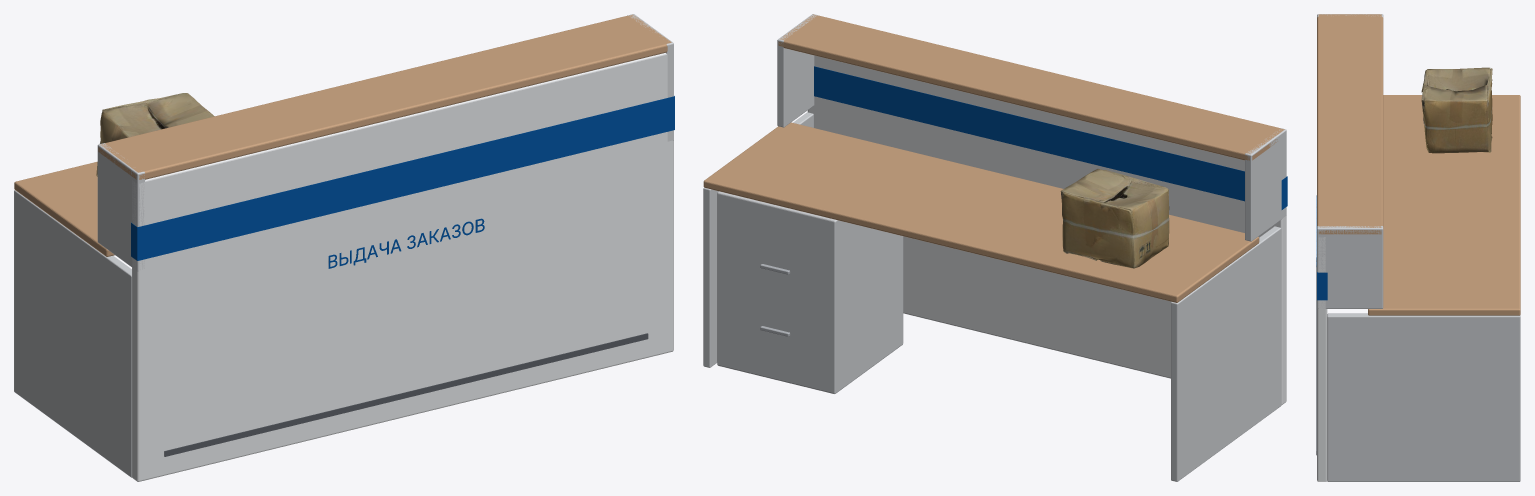
The model's file is pvz-counter.glb.
The picture shows the model from 3 angles, left to right: view 1: azimuth 30°, elevation 25°; view 2: azimuth 150°, elevation 25°; view 3: azimuth 270°, elevation 25°; orthographic projection. The views are drawn at different scales.
Parts seen in each view (by area): view 1: body; view 2: body; view 3: body.
Boxes of the visible parts, x1,y1,x2,y2 form: body: [14, 14, 674, 481]; body: [703, 14, 1287, 481]; body: [1316, 14, 1520, 481].
Bounding box in the file's own units: 2 × 1.1 × 0.803.
7 materials, 1 textured.
